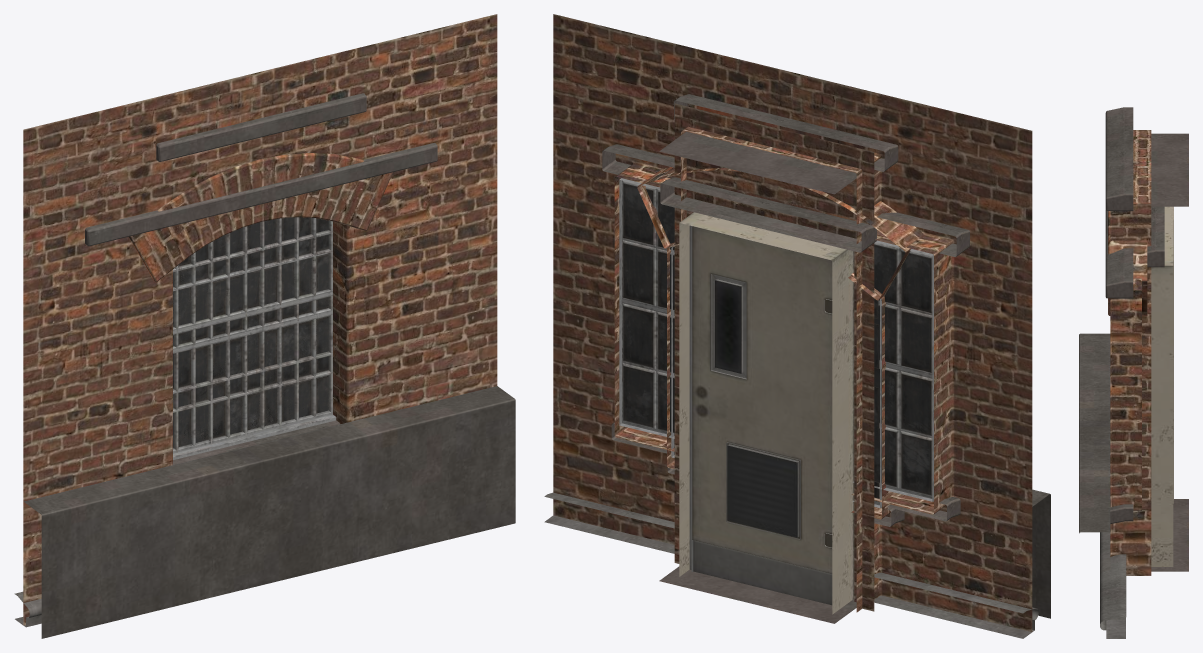
Rendered from facade-kit.glb.
3 views of the same model, side by side, from view 1: azimuth 30°, elevation 25°; view 2: azimuth 150°, elevation 25°; view 3: azimuth 270°, elevation 25° (orthographic). The views are drawn at different scales.
Visible parts, largest first — view 1: FacadeDoor, FacadeNarrow, FacadeBase, FacadeWide; view 2: FacadeDoor, FacadeWide, FacadeNarrow, FacadeCornice, FacadeBase; view 3: FacadeDoor, FacadeWide, FacadeBase, FacadeCornice, FacadeNarrow.
Boxes of the visible parts, bbox=[...] form: FacadeDoor: bbox=[23, 14, 497, 625]; FacadeNarrow: bbox=[23, 43, 497, 624]; FacadeBase: bbox=[24, 386, 515, 638]; FacadeWide: bbox=[23, 62, 497, 564]; FacadeDoor: bbox=[553, 58, 1032, 628]; FacadeWide: bbox=[553, 14, 1032, 629]; FacadeNarrow: bbox=[553, 14, 1032, 631]; FacadeCornice: bbox=[544, 492, 1038, 638]; FacadeBase: bbox=[1032, 489, 1050, 618]; FacadeDoor: bbox=[1105, 107, 1188, 575]; FacadeWide: bbox=[1105, 210, 1141, 523]; FacadeBase: bbox=[1079, 333, 1110, 533]; FacadeCornice: bbox=[1100, 532, 1126, 638]; FacadeNarrow: bbox=[1108, 211, 1147, 315].
Size of the model in its own units: 3 by 3 by 0.7.
Materials: 6 (6 with a texture image).
